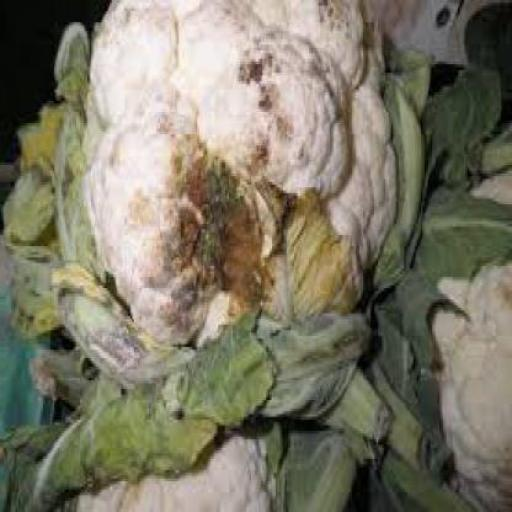biodegradable: (1, 0, 511, 511), (82, 0, 402, 350), (430, 168, 512, 510), (69, 417, 276, 509)
